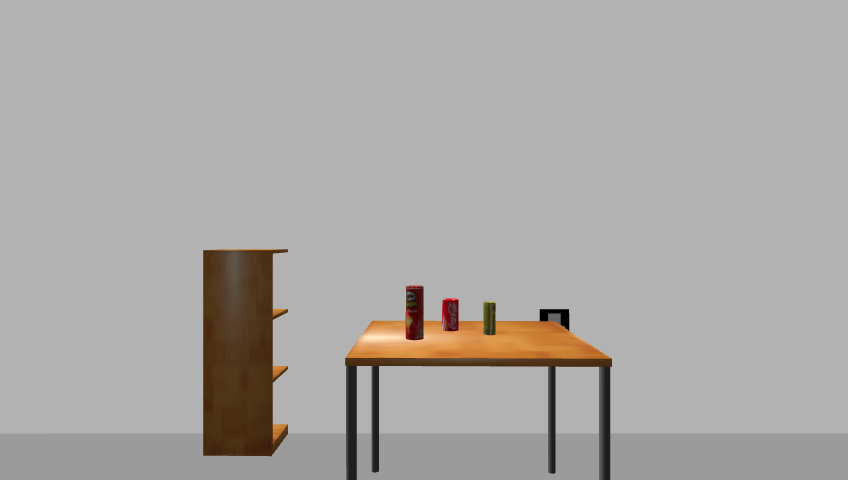aruco marker: (536, 307, 573, 334)
biscuits pack: (483, 301, 497, 337)
bookshelf: (198, 247, 295, 459)
coke can: (441, 298, 461, 333)
dinner table: (340, 318, 620, 480)
pringles can: (403, 285, 424, 342)
